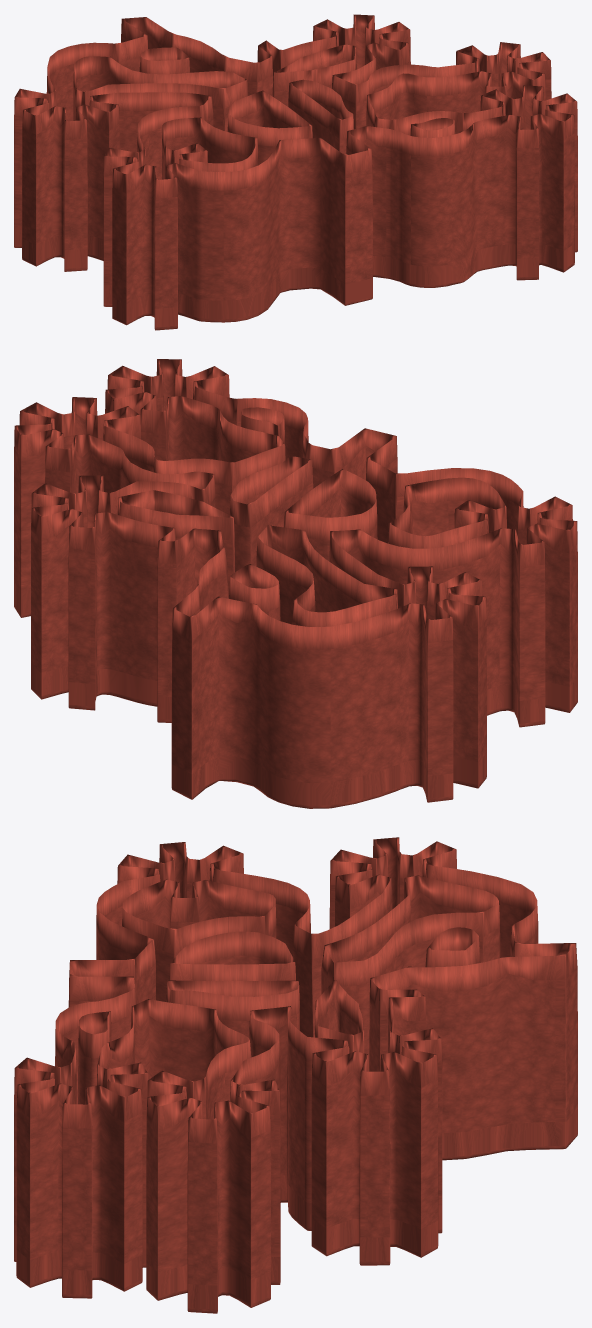
Rendered from level3.fbx.
3 renders of one model, top to bottom at view 1: azimuth 30°, elevation 25°; view 2: azimuth 150°, elevation 25°; view 3: azimuth 270°, elevation 25°, orthographic. The views are drawn at different scales.
Parts seen in each view (by area): view 1: polySurface10; view 2: polySurface10; view 3: polySurface10.
Boxes of the visible parts, <box> form: polySurface10: <box>14,14,577,330</box>; polySurface10: <box>14,359,577,808</box>; polySurface10: <box>14,837,577,1313</box>.
Bounding box in the file's own units: 131 × 41.97 × 111.
